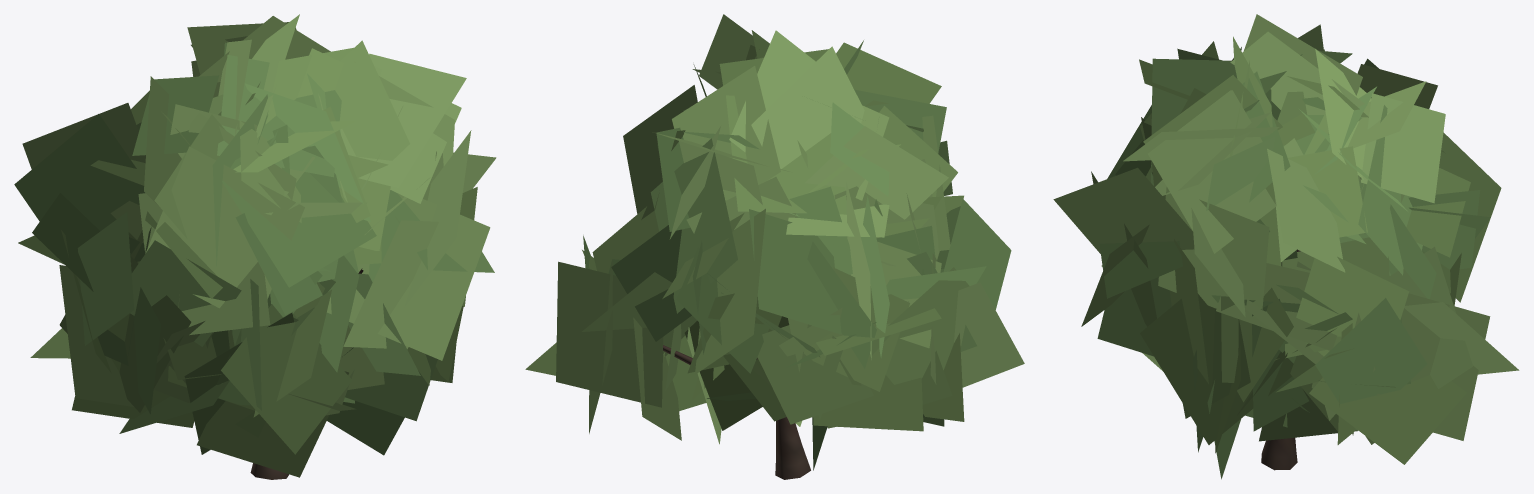
Rendered from oak_lod1.glb.
The picture shows the model from 3 angles, left to right: view 1: azimuth 30°, elevation 25°; view 2: azimuth 150°, elevation 25°; view 3: azimuth 270°, elevation 25°; orthographic projection. The views are drawn at different scales.
Visible parts, largest first — view 1: oak_lod1; view 2: oak_lod1; view 3: oak_lod1.
Boxes of the visible parts, x1,y1,x2,y2 form: oak_lod1: (14,14,496,479); oak_lod1: (525,14,1024,479); oak_lod1: (1053,14,1519,479).
Bounding box in the file's own units: 1 × 1 × 0.9526.
